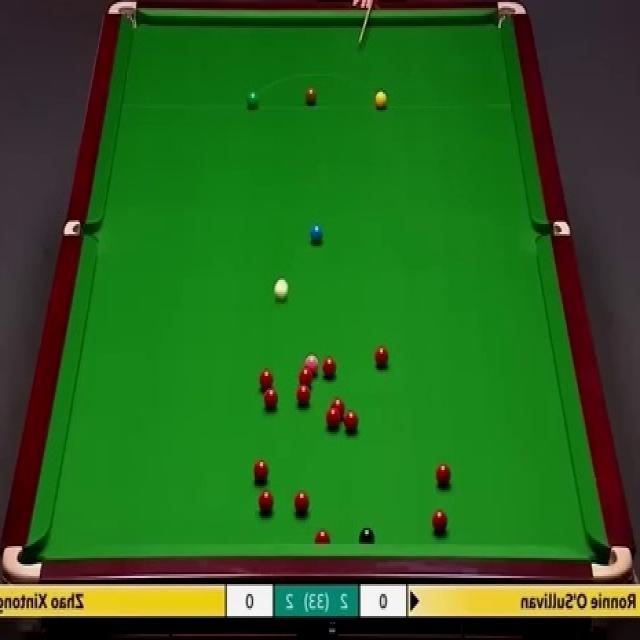black-ball: (359, 524, 375, 547)
blue-ball: (310, 225, 322, 244)
brown-ball: (305, 89, 317, 108)
green-ball: (245, 90, 260, 110)
pink-ball: (304, 352, 320, 374)
red-ball: (257, 488, 275, 516), (253, 458, 270, 485), (435, 462, 452, 487), (374, 344, 390, 370), (293, 488, 309, 514), (432, 508, 448, 533), (295, 384, 311, 408), (322, 355, 337, 379), (263, 387, 278, 411), (343, 410, 359, 432), (326, 405, 340, 429), (258, 368, 274, 388), (298, 368, 313, 386), (315, 529, 331, 544), (331, 397, 344, 415)
white-ball: (272, 276, 290, 302)
yellow-ball: (375, 88, 388, 110)
